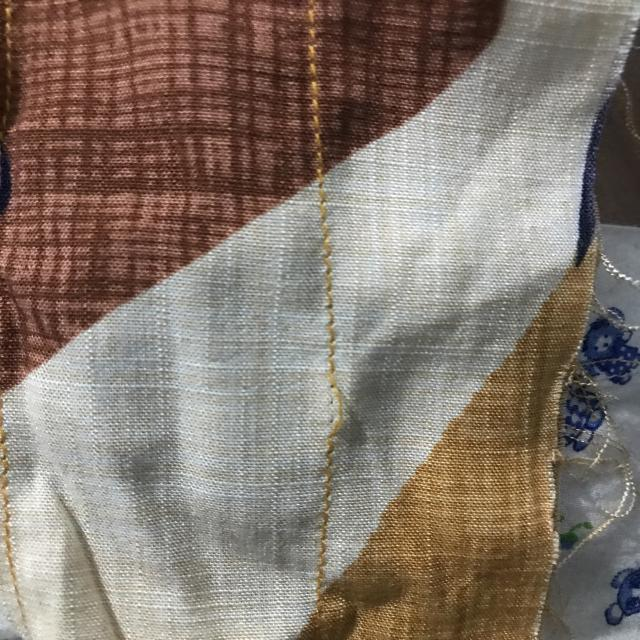good: (299, 206, 351, 317)
skip: (314, 360, 366, 461)
